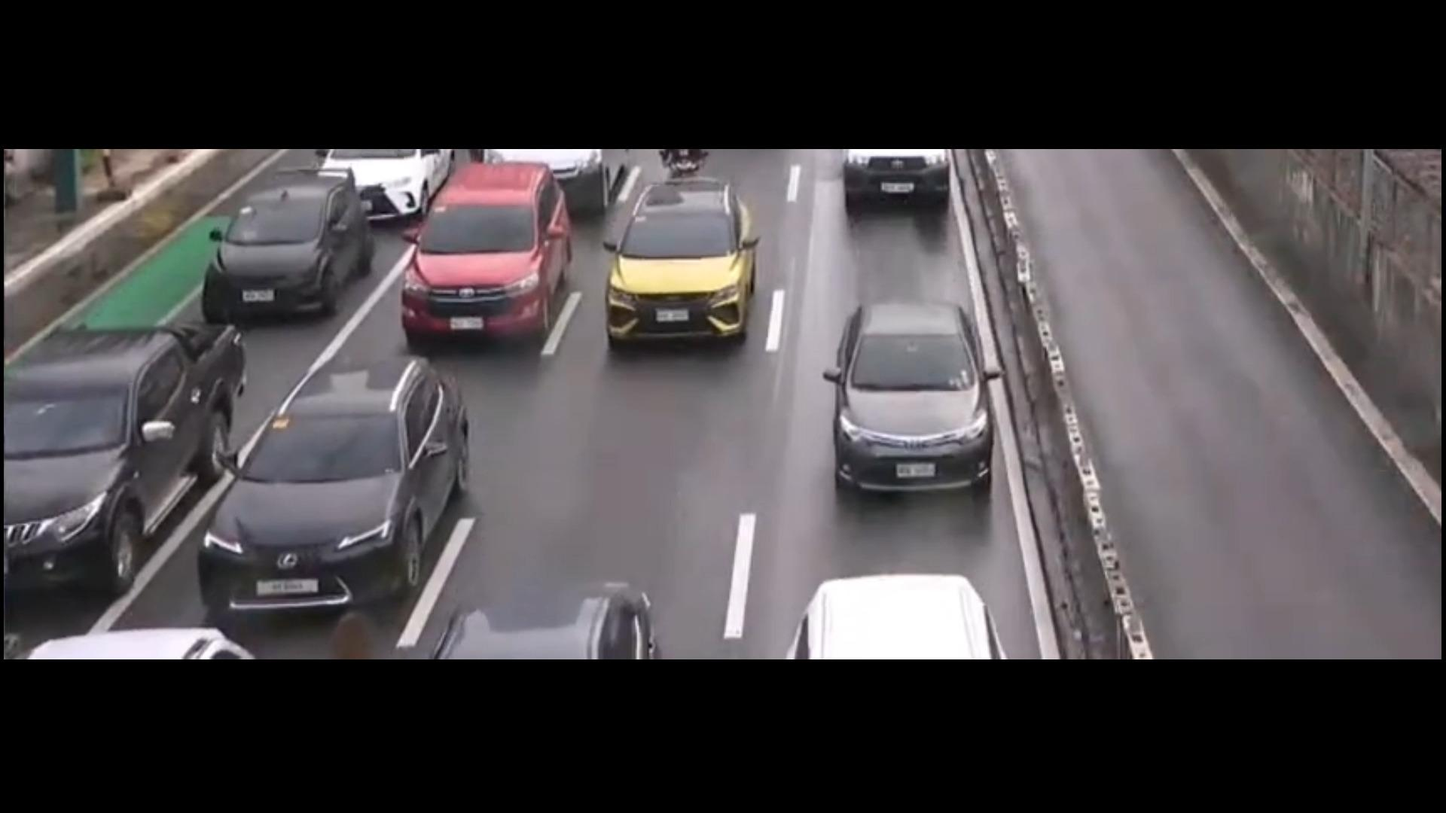Pickup: (0, 307, 260, 617)
SUV: (166, 347, 499, 638), (355, 168, 618, 381)
Sedan: (809, 290, 1008, 525), (586, 162, 787, 365), (200, 164, 360, 340)
